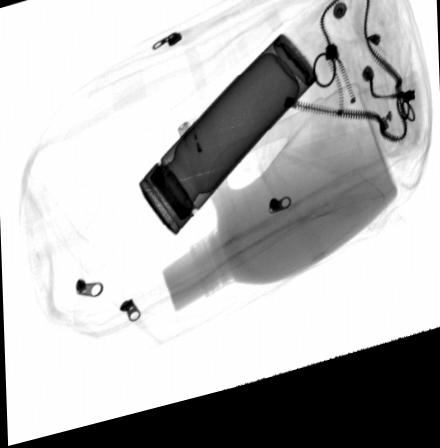Lighter: (177, 124, 214, 197)
